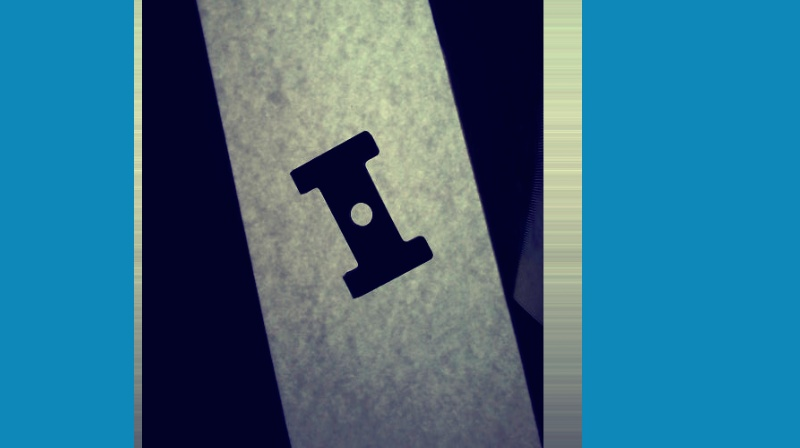O002: (288, 128, 434, 301)
